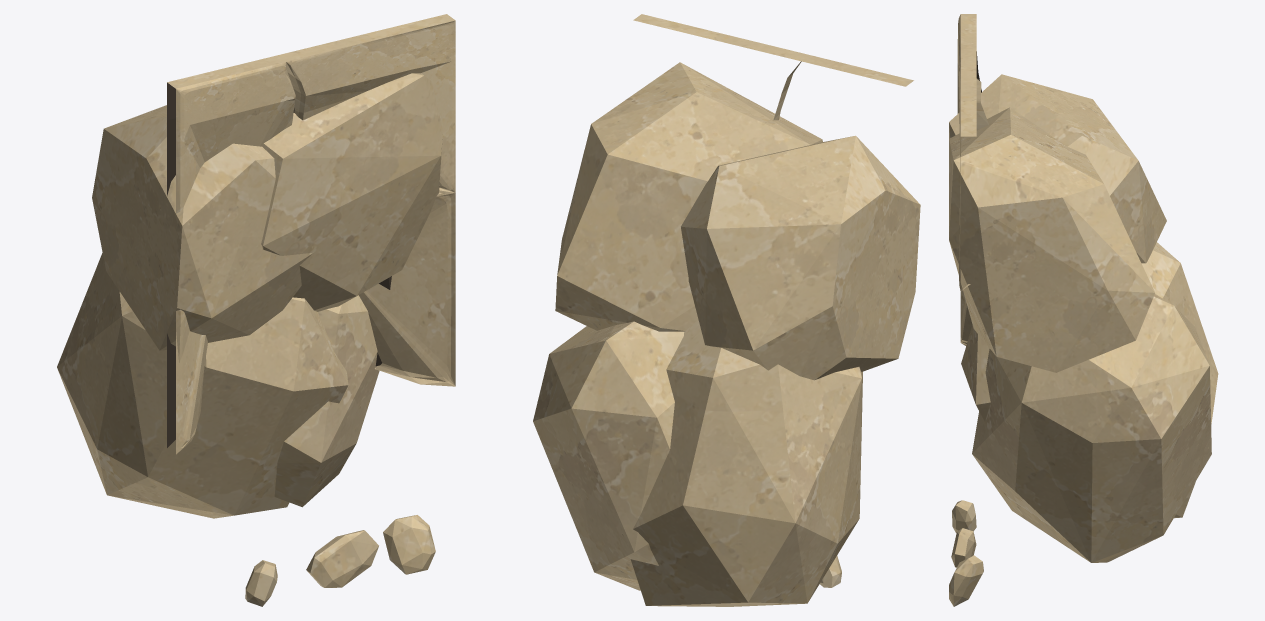
Rendered from ground_bottom_edge_03.glb.
The picture shows the model from 3 angles, left to right: view 1: azimuth 30°, elevation 25°; view 2: azimuth 150°, elevation 25°; view 3: azimuth 270°, elevation 25°; orthographic projection. The views are drawn at different scales.
Visible parts, largest first — view 1: GroundBottomEdge03_Body; view 2: GroundBottomEdge03_Body; view 3: GroundBottomEdge03_Body.
Part boxes in pixels (x1=…): GroundBottomEdge03_Body: x1=57, y1=14, x2=455, y2=606; GroundBottomEdge03_Body: x1=533, y1=14, x2=920, y2=606; GroundBottomEdge03_Body: x1=949, y1=14, x2=1218, y2=606.
Bounding box in the file's own units: 1 × 1.85 × 1.04.
Materials: 5 (4 with a texture image).
